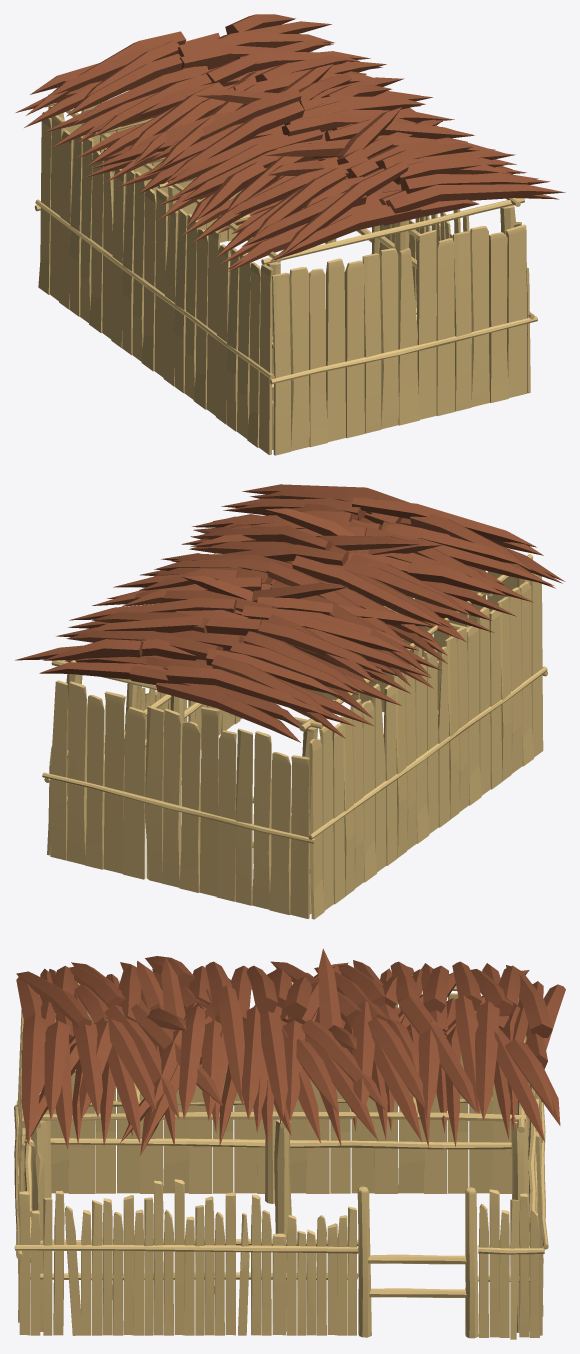
3 renders of one model, top to bottom at view 1: azimuth 30°, elevation 25°; view 2: azimuth 150°, elevation 25°; view 3: azimuth 270°, elevation 25°, orthographic. The views are drawn at different scales.
Parts seen in each view (by area): view 1: 羊圈_2, 羊圈_1; view 2: 羊圈_2, 羊圈_1; view 3: 羊圈_2, 羊圈_1.
Boxes of the visible parts, box(x1,y1,x2,y2) form: 羊圈_2: box(34, 51, 537, 455); 羊圈_1: box(15, 14, 565, 271); 羊圈_2: box(42, 553, 547, 919); 羊圈_1: box(15, 484, 565, 742); 羊圈_2: box(14, 971, 548, 1339); 羊圈_1: box(16, 948, 565, 1155).
Bounding box in the file's own units: 385 × 266 × 480.
